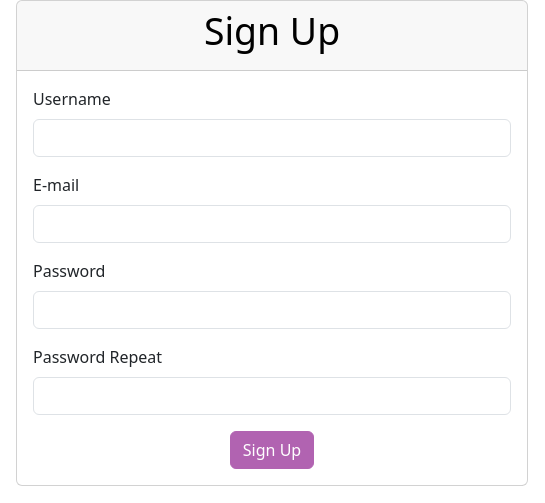
Test case: Sign Up › when user sets same value for password inputs › enables button
Type "user1" into the field labelled "Username" at (272, 138), box [33,119,511,157]
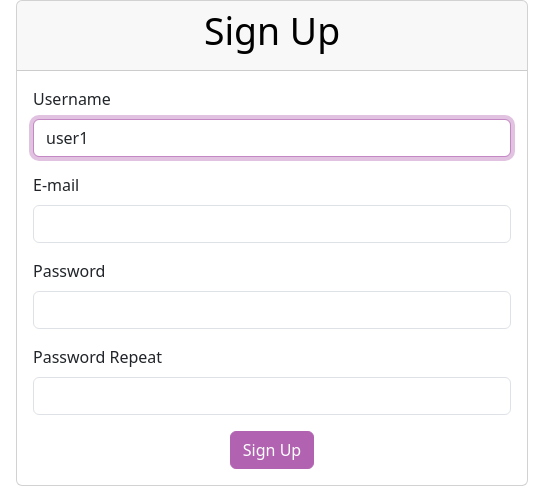
Type "teste@gmail.com" into the field labelled "E-mail" at (272, 224), box [33,205,511,243]
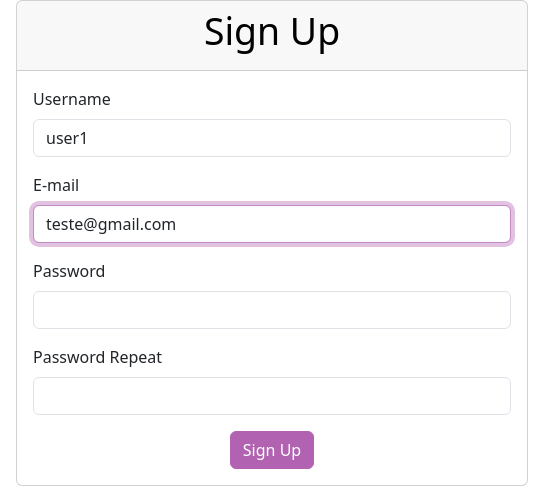
Type "P4ssword" into the password field labelled "Password" at (272, 310), box [33,291,511,329]
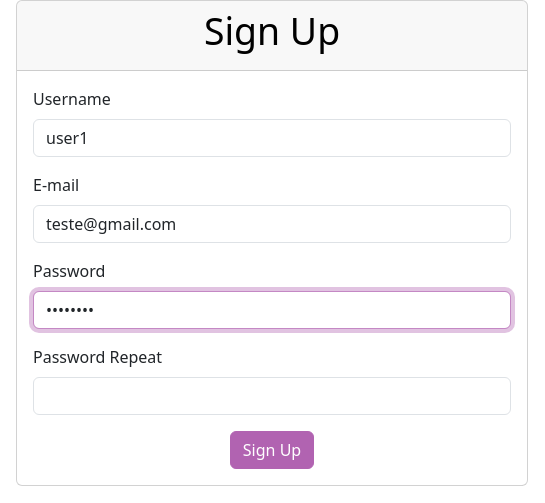
Type "P4ssword" into the password field labelled "Password Repeat" at (272, 396), box [33,377,511,415]
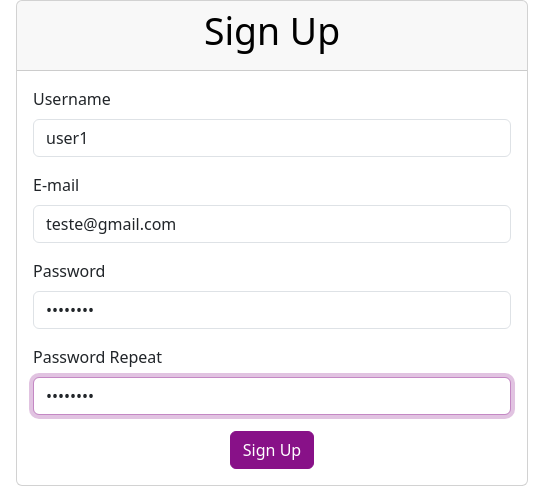
Expected: the button "Sign Up" is enabled, [230,431,314,469]
